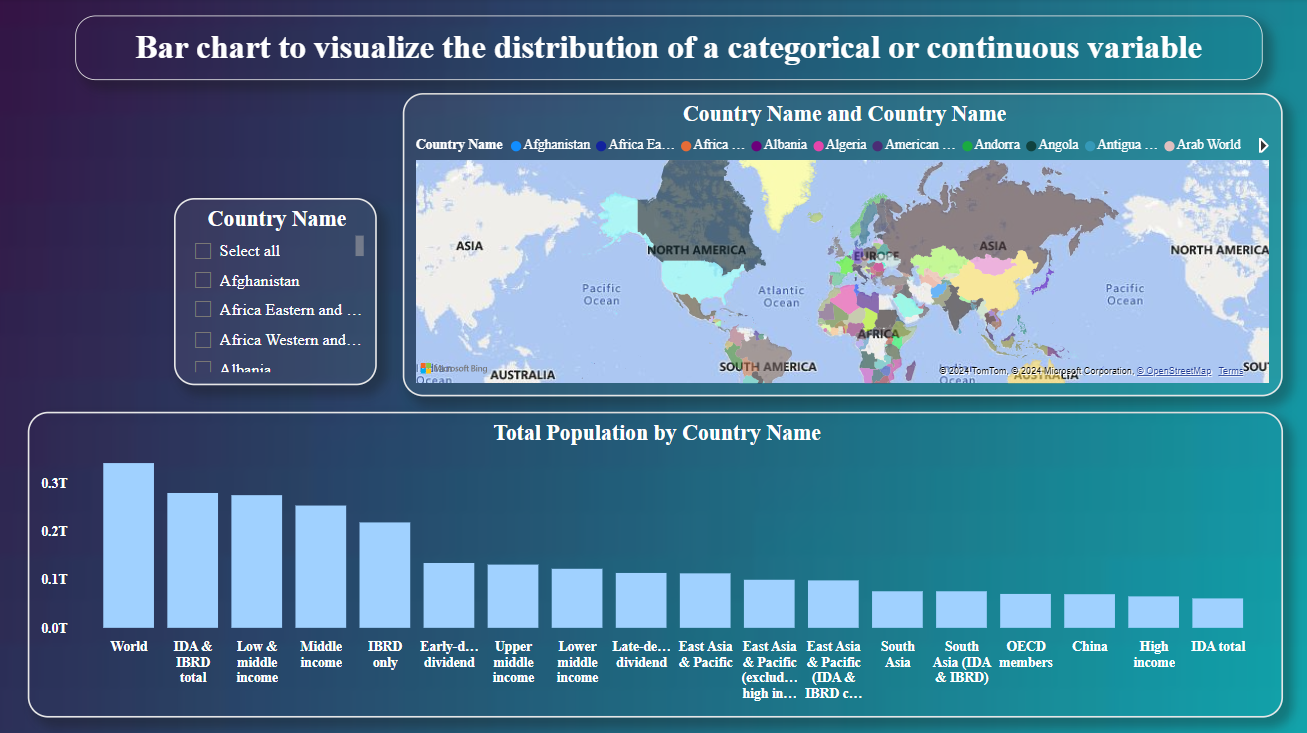

This screenshot's page, from the dashboard's own definition file:
{"tool":"powerbi","page":{"name":"Page 1","canvas":[1280,720],"ordinal":0},"visuals":[{"type":"columnChart","fields":{"Y":["Sheet1.Total Population"],"Category":["Sheet1.Country Name"]},"box":[28.1,404.8,1227.7,299.6],"z":0},{"type":"slicer","title":"Country Name","fields":{"Values":["Sheet1.Country Name"]},"box":[171.2,195.7,198.1,183.4],"z":1000},{"type":"filledMap","fields":{"Category":["Sheet1.Country Name"],"Series":["Sheet1.Country Name"]},"box":[395,92.9,860.9,297.1],"z":2000},{"type":"textbox","box":[74.6,17.1,1161.7,63.6],"z":3000}]}

Visuals, with their boxes in screenshot pixels (x1, y1, x2, y2), scaled from the page's 1280x720 canvas onto the 1307x733 screenshot:
columnChart - Sheet1.Total Population x Sheet1.Country Name: bbox=[29, 412, 1282, 717]
"Country Name" slicer: bbox=[175, 199, 377, 386]
filledMap - Sheet1.Country Name x Sheet1.Country Name: bbox=[403, 95, 1282, 397]
textbox: bbox=[76, 17, 1262, 82]
